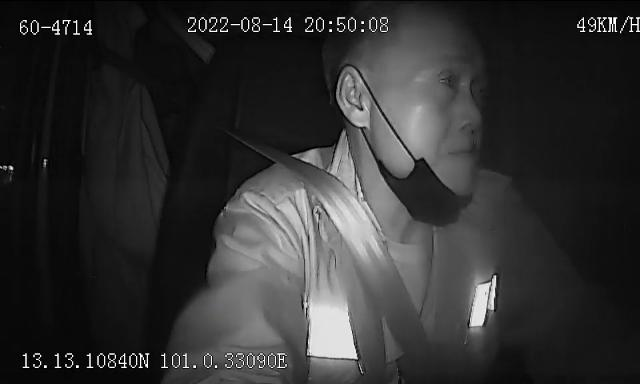Seatbelt: (242, 136, 436, 368)
